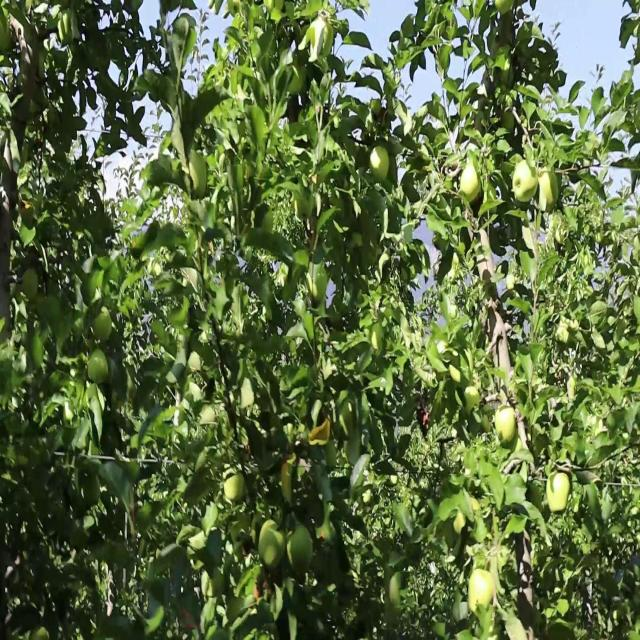apple: (512, 156, 537, 203), (472, 568, 496, 613), (548, 476, 572, 514), (308, 412, 332, 448), (460, 163, 481, 204), (540, 170, 560, 213), (496, 405, 517, 443), (280, 455, 298, 498), (372, 142, 390, 183), (464, 163, 482, 204), (224, 476, 247, 505), (92, 312, 113, 343), (88, 355, 109, 386), (24, 270, 40, 300), (504, 106, 516, 135), (464, 391, 480, 412), (184, 611, 198, 633), (456, 511, 466, 533), (392, 575, 397, 604), (88, 92, 97, 108)
